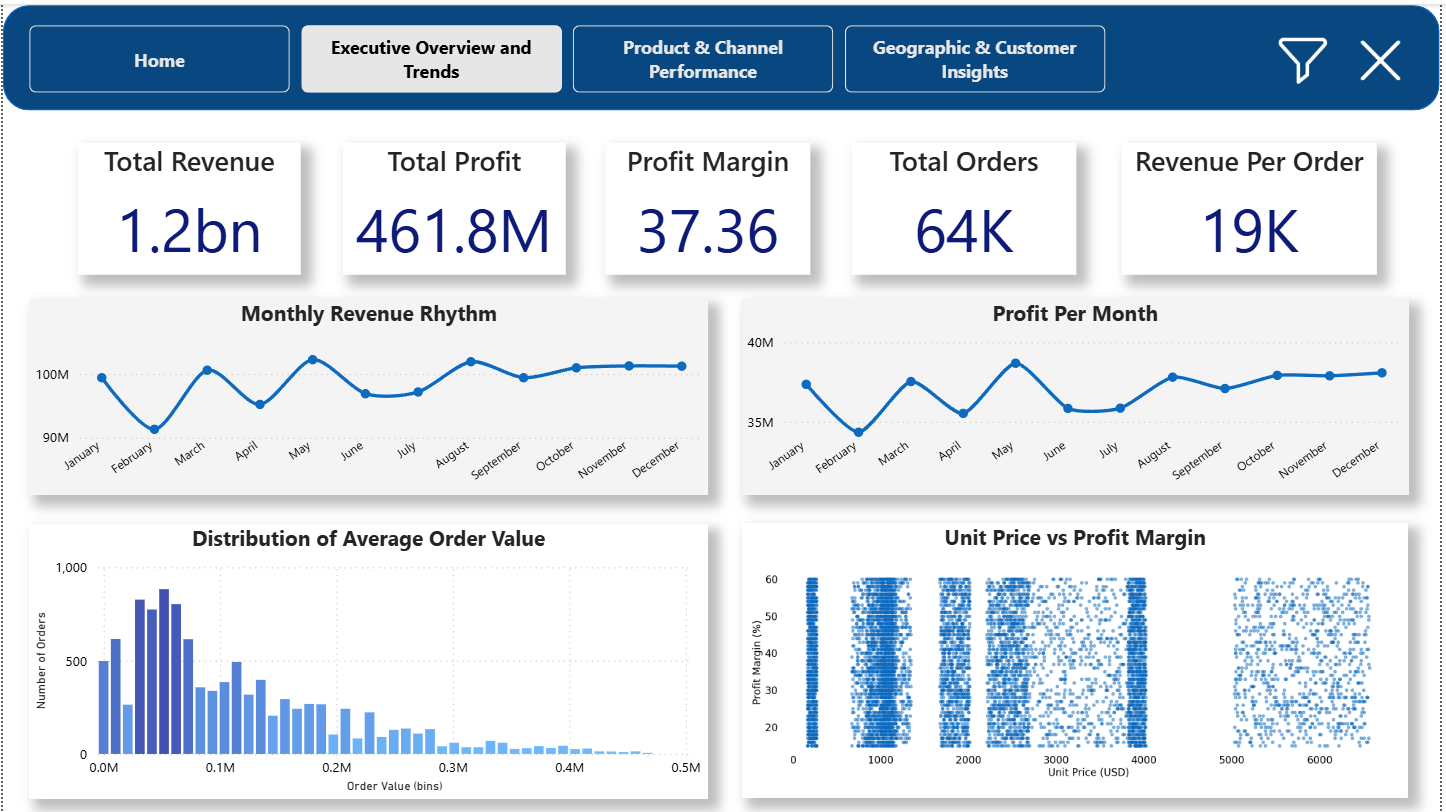

What the dashboard file says about the page in this screenshot:
{"tool":"powerbi","page":{"name":"Executive Overview and Trends","canvas":[1280,720],"ordinal":1},"visuals":[{"type":"shape","box":[0,1.6,1279.4,93.7],"z":0},{"type":"card","title":"Total Revenue","fields":{"Values":["Sum(Sales_data(EDA Exported).revenue)"]},"box":[66.7,123.8,198.4,117.5],"z":1000},{"type":"card","title":"Total Profit","fields":{"Values":["Sum(Sales_data(EDA Exported).profit)"]},"box":[303.2,123.8,198.4,117.5],"z":2000},{"type":"card","title":"Profit Margin","fields":{"Values":["Custom Measures.Profit Margin (%)"]},"box":[536.5,123.8,182.5,117.5],"z":3000},{"type":"card","title":"Total Orders","fields":{"Values":["CountNonNull(Sales_data(EDA Exported).order_number)"]},"box":[755.6,123.8,200,117.5],"z":4000},{"type":"card","title":"Revenue Per Order","fields":{"Values":["Custom Measures.Revenue per order"]},"box":[996.8,123.8,227,117.5],"z":5000},{"type":"lineChart","title":"Monthly Revenue Rhythm","fields":{"Category":["Sales_data(EDA Exported).order_month_name"],"Y":["Custom Measures.Total Revenue"]},"box":[23.4,263.2,605.1,174.6],"z":6000},{"type":"lineChart","title":"Profit Per Month","fields":{"Category":["Sales_data(EDA Exported).order_month_name"],"Y":["Custom Measures.Total Profit"]},"box":[658,263.2,594,174.6],"z":7000},{"type":"clusteredColumnChart","title":"Distribution of Average Order Value","fields":{"Category":["OrderValueTable.OrderValue (bins)"],"Y":["CountNonNull(OrderValueTable.order_number)"]},"box":[23.9,462.7,604.5,244.8],"z":8000},{"type":"pythonVisual","title":"Unit Price vs Profit Margin","fields":{"Values":["Sales_data(EDA Exported).unit_price","Sales_data(EDA Exported).revenue","Sales_data(EDA Exported).profit"]},"box":[657.7,462.4,593.9,244.9],"z":9000},{"type":"pageNavigator","box":[23.8,19,961.9,60.3],"z":10000},{"type":"image","box":[1123.4,18.6,69.5,60.8],"z":11000},{"type":"image","box":[1201.6,27.3,50.9,44.7],"z":12000}]}

Visuals, with their boxes in screenshot pixels (x1, y1, x2, y2), scaled from the page's 1280x720 canvas onto the 1446x812 screenshot:
shape: pyautogui.locateOnScreen(0, 2, 1445, 107)
"Total Revenue" card: pyautogui.locateOnScreen(75, 140, 299, 272)
"Total Profit" card: pyautogui.locateOnScreen(343, 140, 567, 272)
"Profit Margin" card: pyautogui.locateOnScreen(606, 140, 812, 272)
"Total Orders" card: pyautogui.locateOnScreen(854, 140, 1080, 272)
"Revenue Per Order" card: pyautogui.locateOnScreen(1126, 140, 1383, 272)
"Monthly Revenue Rhythm" lineChart: pyautogui.locateOnScreen(26, 297, 710, 494)
"Profit Per Month" lineChart: pyautogui.locateOnScreen(743, 297, 1414, 494)
"Distribution of Average Order Value" clusteredColumnChart: pyautogui.locateOnScreen(27, 522, 710, 798)
"Unit Price vs Profit Margin" pythonVisual: pyautogui.locateOnScreen(743, 521, 1414, 798)
pageNavigator: pyautogui.locateOnScreen(27, 21, 1114, 89)
image: pyautogui.locateOnScreen(1269, 21, 1348, 90)
image: pyautogui.locateOnScreen(1357, 31, 1415, 81)
